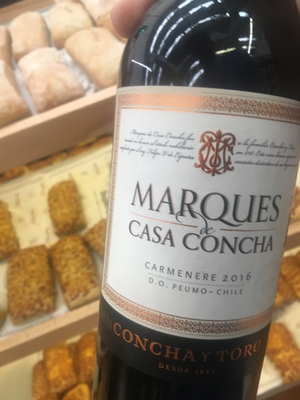marques de casa concha carmenere: (94, 10, 300, 388)
